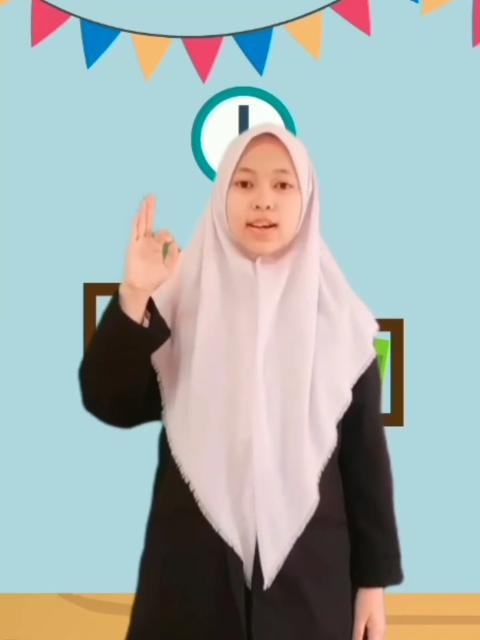F: (123, 190, 188, 296)
